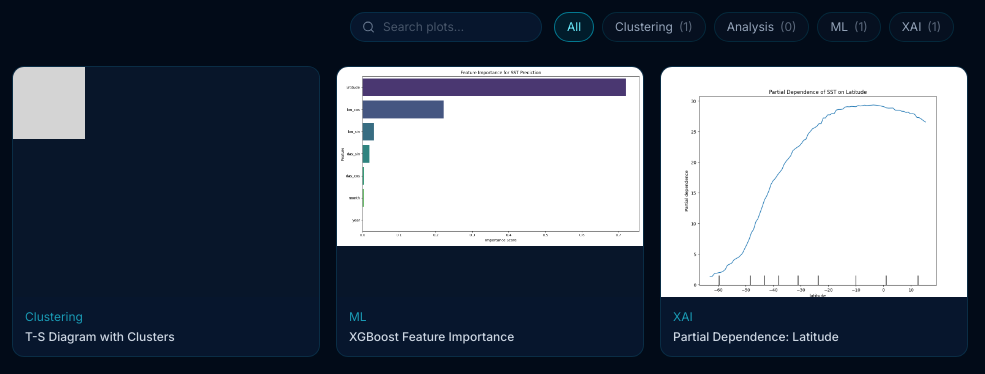
Test case: GallerySection › shows empty state when no plots match search
This screenshot has width=985, height=374.
Step 1. Type "zzznomatch" into the search field with placeholder "Search plots…" → point(446, 27), box [350,12,542,42]
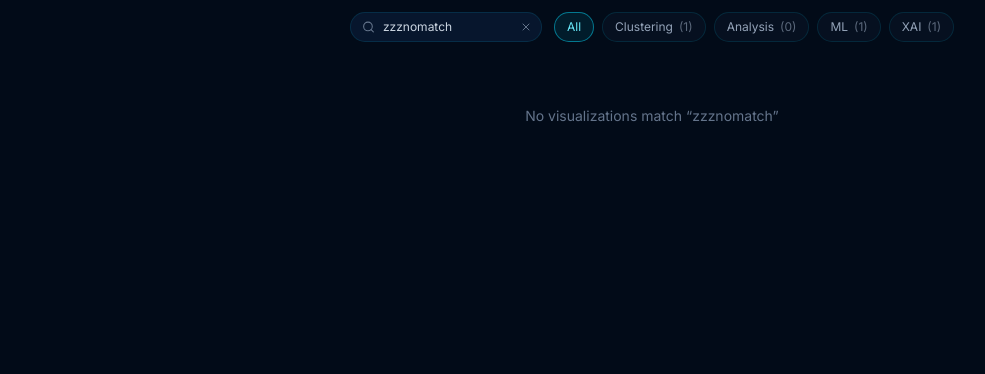
expect the text "No visualizations match “zzznomatch”" is shown: met, box [525,107,779,124]
